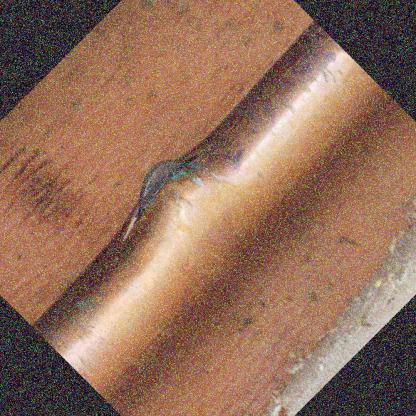burst: (114, 155, 213, 224)
